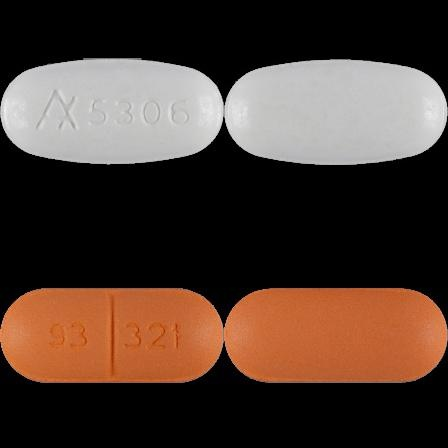35356-903: (0, 0, 224, 224)
